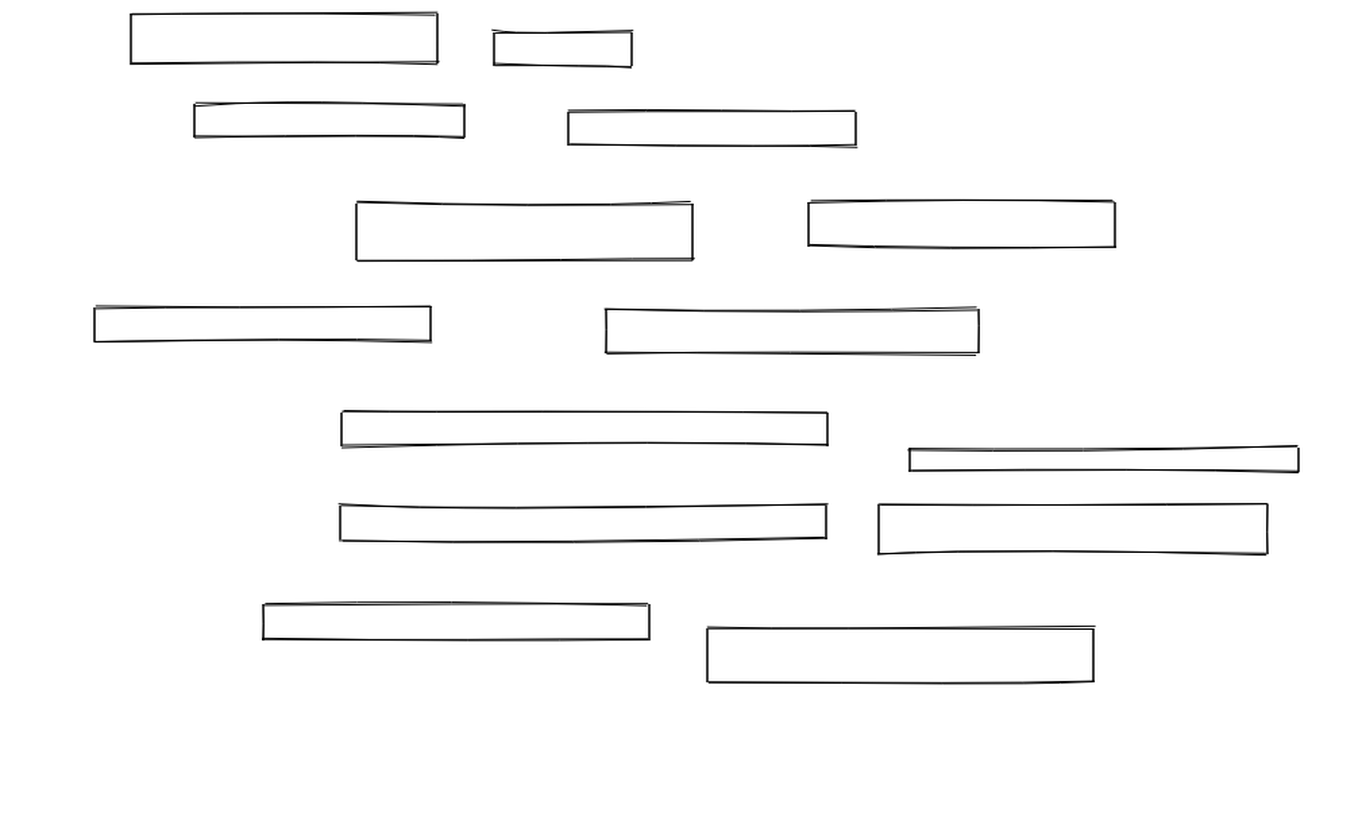Textbox: (704, 623, 1097, 687), (352, 198, 697, 265), (874, 499, 1272, 557), (336, 501, 829, 547), (337, 406, 830, 450), (601, 305, 983, 358), (127, 9, 441, 69), (803, 195, 1120, 251), (260, 599, 653, 644), (92, 302, 433, 347), (907, 442, 1302, 475), (566, 107, 859, 149), (190, 100, 467, 140), (490, 26, 635, 70)
